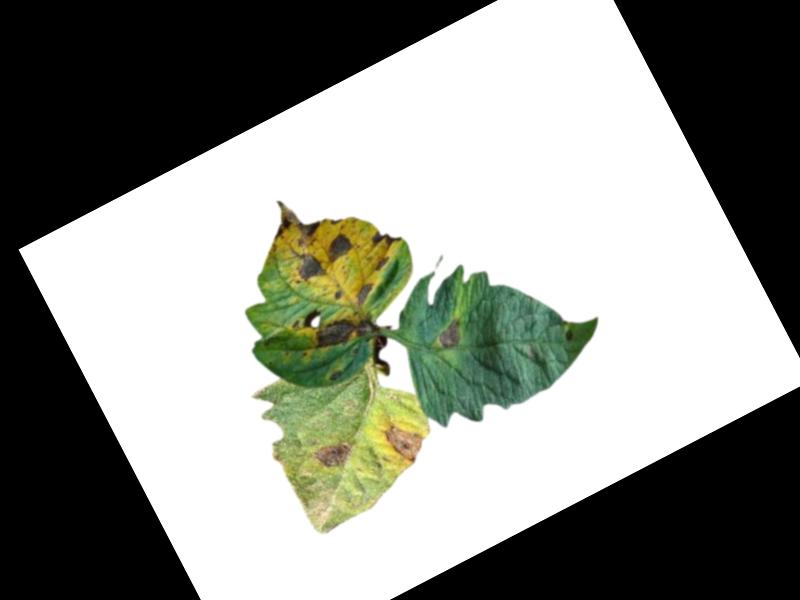Early_blight: (257, 187, 328, 258), (307, 302, 379, 362), (380, 413, 432, 470), (309, 433, 359, 478), (284, 247, 329, 290), (433, 317, 472, 354), (320, 229, 358, 265), (368, 222, 405, 255), (349, 280, 378, 308), (372, 254, 394, 274), (560, 326, 579, 344), (331, 289, 346, 304)
